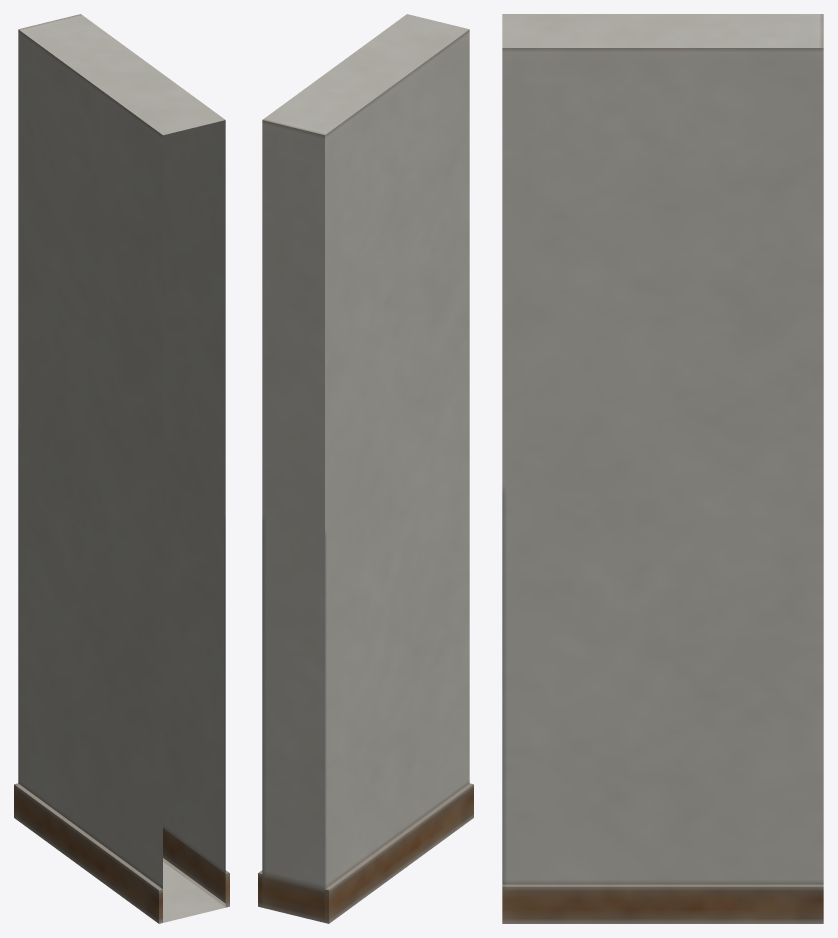
The model's file is SM_Wall_02.fbx.
The picture shows the model from 3 angles, left to right: view 1: azimuth 30°, elevation 25°; view 2: azimuth 150°, elevation 25°; view 3: azimuth 270°, elevation 25°; orthographic projection. The views are drawn at different scales.
Visible parts, largest first — view 1: SM_Wall_02; view 2: SM_Wall_02; view 3: SM_Wall_02.
Part boxes in pixels (left/top/right/bottom): SM_Wall_02: left=14, top=14, right=229, bottom=923; SM_Wall_02: left=258, top=14, right=473, bottom=923; SM_Wall_02: left=502, top=14, right=823, bottom=923.
Size of the model in its own units: 28.23 by 300 by 100.
